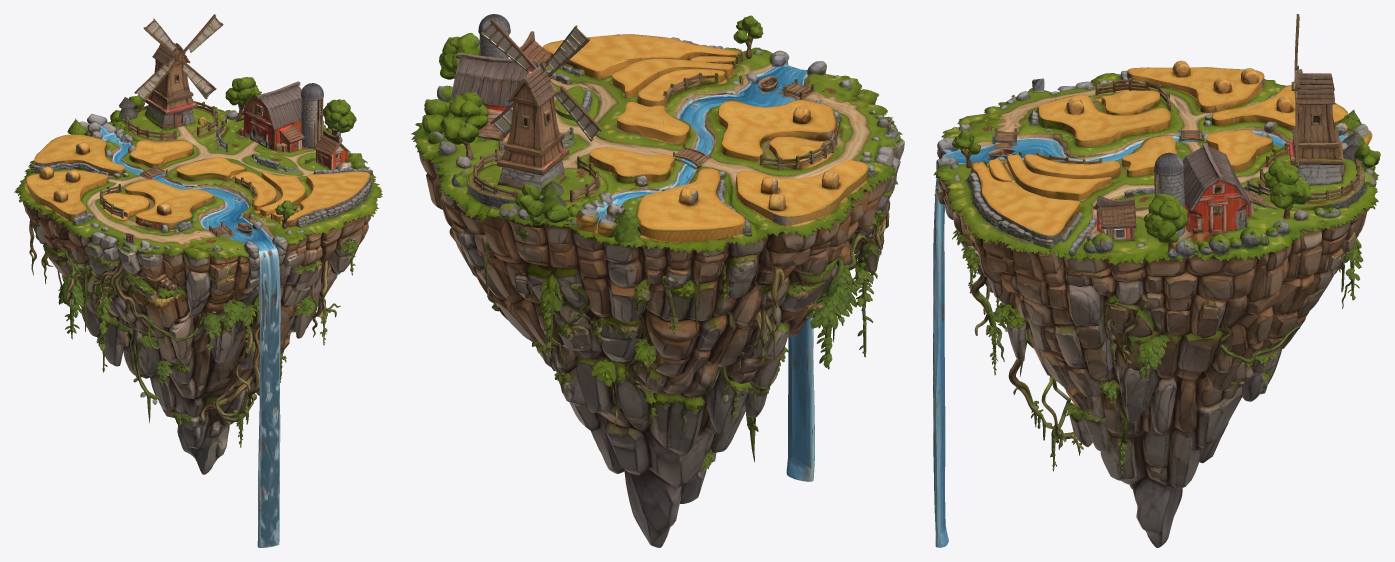
Rendered from windmill.glb.
3 views of the same model, side by side, from view 1: azimuth 30°, elevation 25°; view 2: azimuth 150°, elevation 25°; view 3: azimuth 270°, elevation 25° (orthographic). The views are drawn at different scales.
Parts seen in each view (by area): view 1: Mesh_0; view 2: Mesh_0; view 3: Mesh_0.
Part boxes in pixels (x1,y1,x2,y2): Mesh_0: (14, 14, 382, 547); Mesh_0: (411, 14, 904, 547); Mesh_0: (933, 14, 1380, 547).
Size of the model in its own units: 1.47 by 1.9 by 1.42.
1 material, 1 textured.
